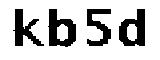5: (82, 6, 115, 51)
b: (46, 7, 78, 48)
d: (115, 8, 153, 51)
k: (11, 6, 44, 50)
